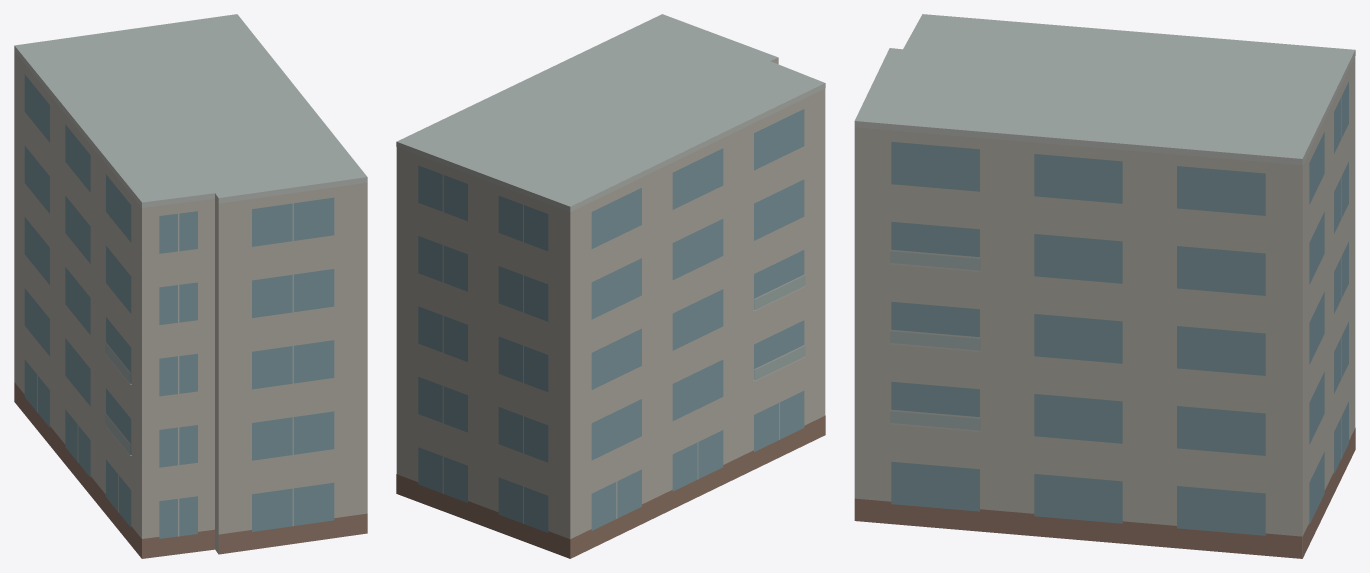
Rendered from survey-upis-32753483.glb.
3 renders of one model, left to right at view 1: azimuth 30°, elevation 25°; view 2: azimuth 150°, elevation 25°; view 3: azimuth 270°, elevation 25°, orthographic. The views are drawn at different scales.
Parts seen in each view (by area): view 1: survey-upis-32753483.tmp; view 2: survey-upis-32753483.tmp; view 3: survey-upis-32753483.tmp.
Part boxes in pixels (x1,y1,x2,y2): survey-upis-32753483.tmp: (14,14,367,558); survey-upis-32753483.tmp: (396,14,825,558); survey-upis-32753483.tmp: (854,14,1355,558).
Size of the model in its own units: 12.21 by 15.7 by 17.83.
